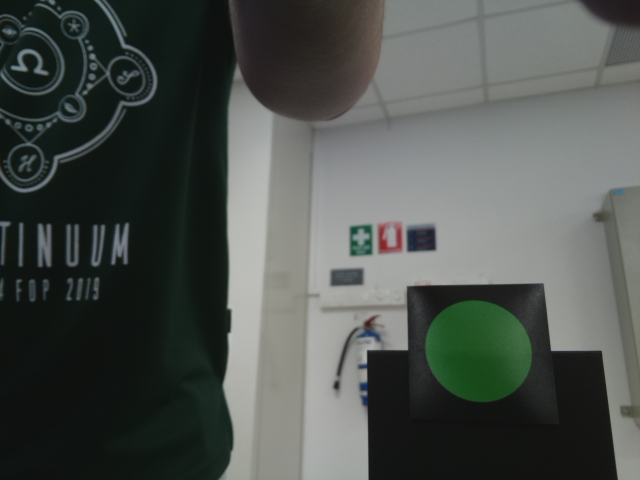go: (421, 296, 542, 403)
